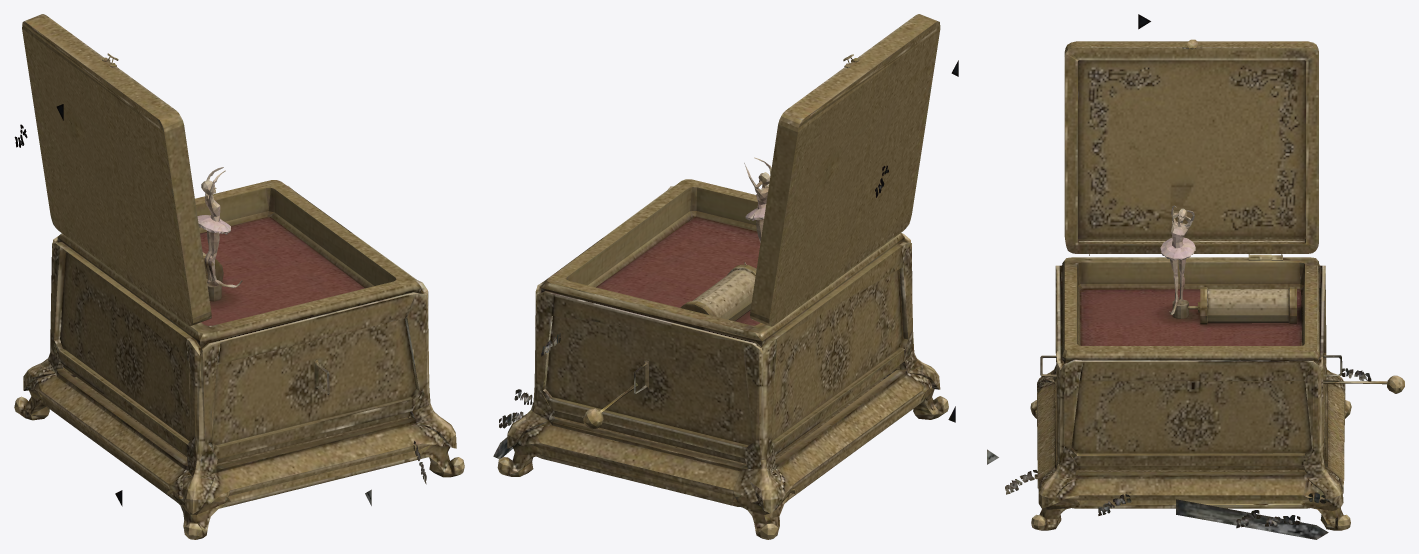
Rendered from music box antique.glb.
3 renders of one model, left to right at view 1: azimuth 30°, elevation 25°; view 2: azimuth 150°, elevation 25°; view 3: azimuth 270°, elevation 25°, orthographic. The views are drawn at different scales.
Visible parts, largest first — view 1: tripo_node_3d21d90c-a68f-4004-b1fc-baa97e0d09c4; view 2: tripo_node_3d21d90c-a68f-4004-b1fc-baa97e0d09c4; view 3: tripo_node_3d21d90c-a68f-4004-b1fc-baa97e0d09c4.
Boxes of the visible parts, x1,y1,x2,y2 form: tripo_node_3d21d90c-a68f-4004-b1fc-baa97e0d09c4: (14,14,464,539); tripo_node_3d21d90c-a68f-4004-b1fc-baa97e0d09c4: (493,14,958,539); tripo_node_3d21d90c-a68f-4004-b1fc-baa97e0d09c4: (987,14,1404,539).
Bounding box in the file's own units: 0.9238 × 0.9941 × 0.998.
1 material, 1 textured.
